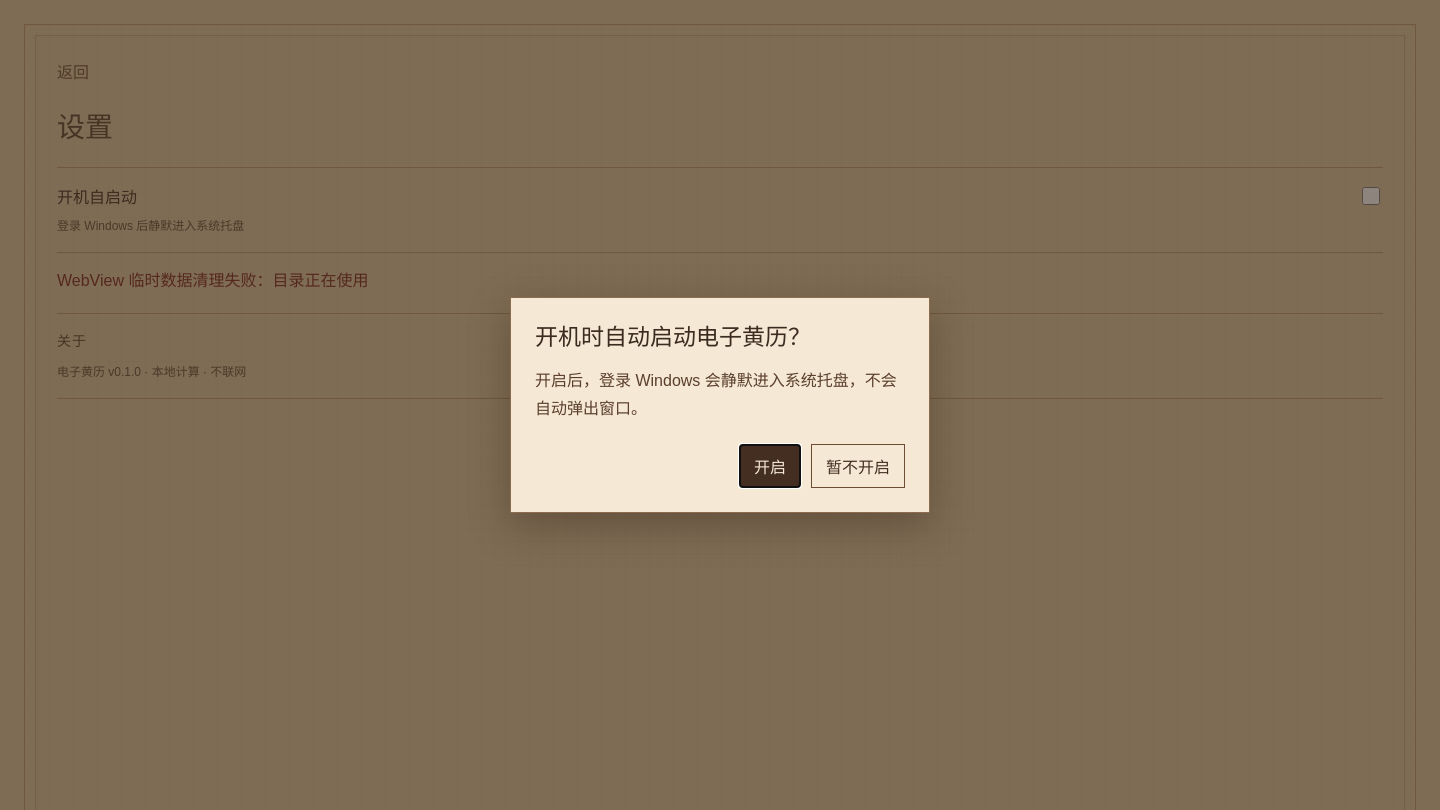
App › keeps an unseen first-run prompt when startup cache cleanup fails
Expected: the dialog is shown, [510, 297, 930, 513]
Expected: the heading "设置" is shown, [57, 112, 113, 143]
What coordinates should you click on to do the following:
click the button "暂不开启"
I would click on:
 (858, 466)
Its box is [811, 444, 905, 488].
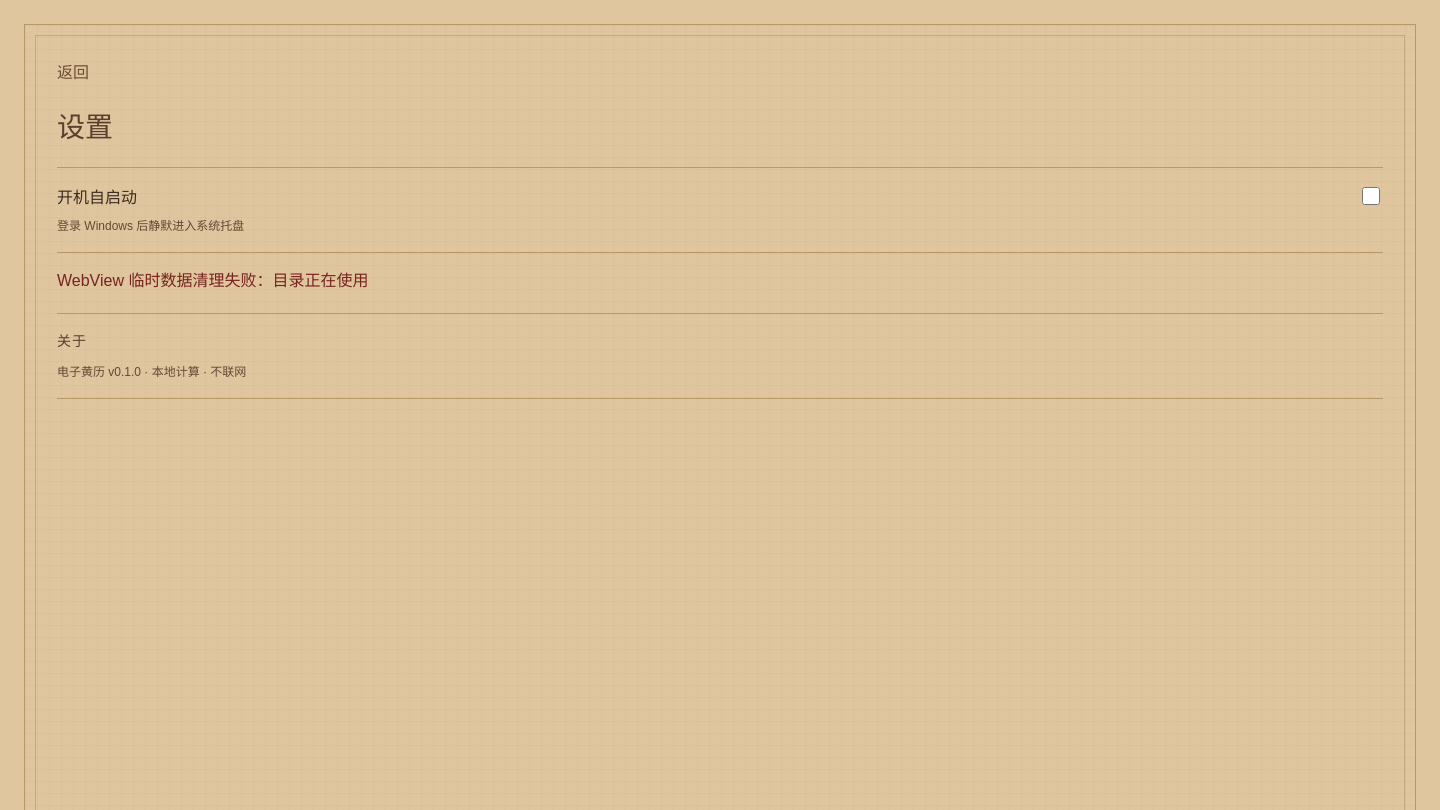
Expected: the message reads "WebView 临时数据清理失败：目录正在使用", [57, 272, 368, 289]
Now the dialog is gone
